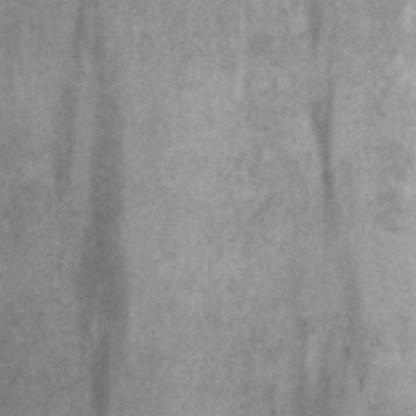inclusion: (60, 6, 127, 389), (302, 91, 345, 235)
